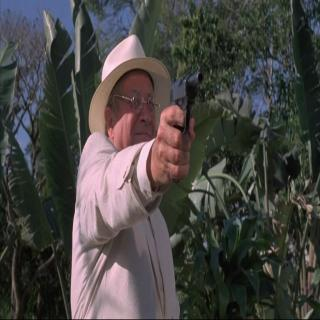gun: (160, 71, 202, 183)
